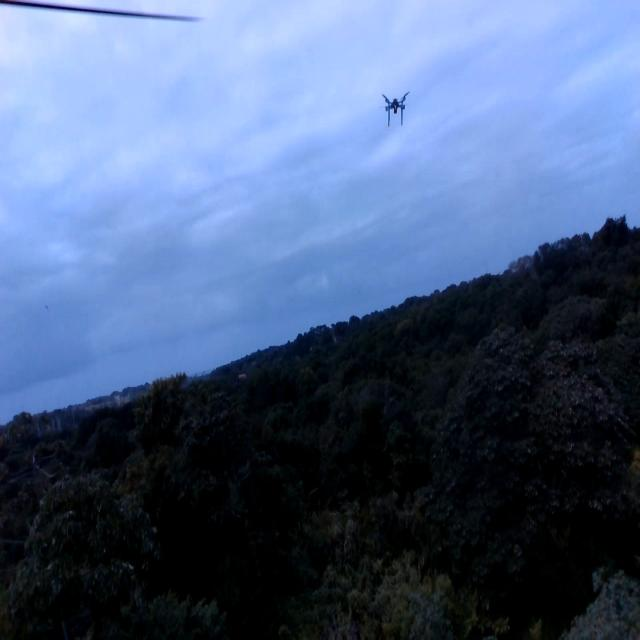-uav-: (378, 77, 414, 132)
